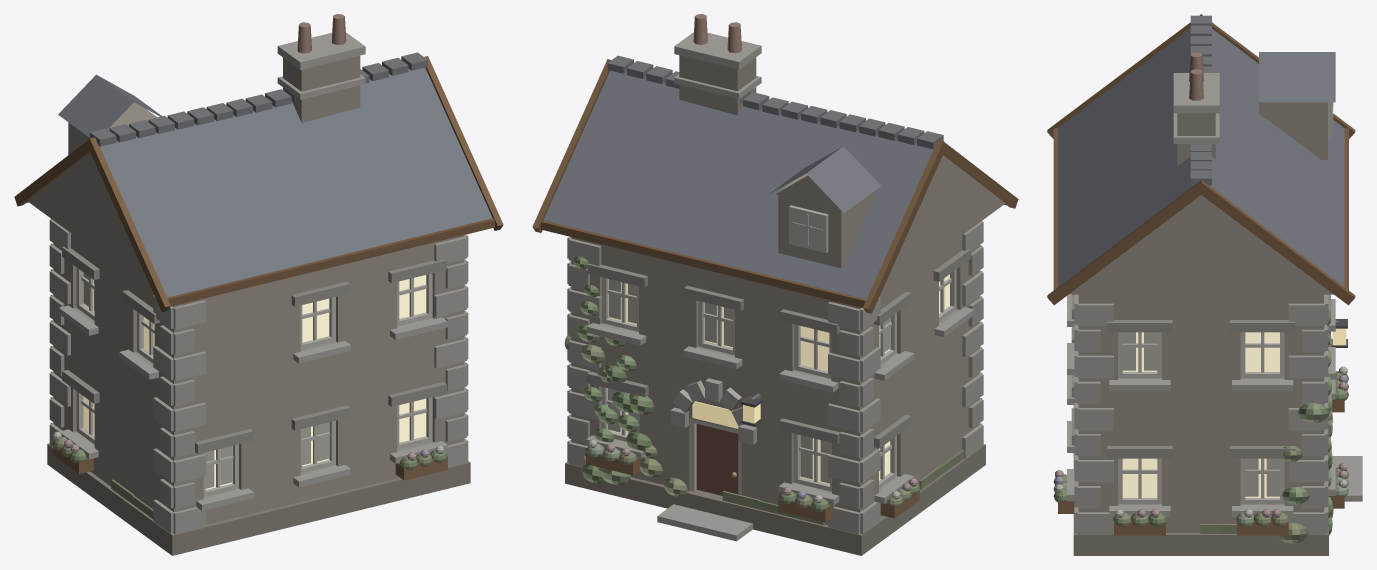
Rendered from cottage-2s.glb.
3 views of the same model, side by side, from view 1: azimuth 30°, elevation 25°; view 2: azimuth 150°, elevation 25°; view 3: azimuth 270°, elevation 25° (orthographic). The views are drawn at different scales.
Visible parts, largest first — view 1: cottage-2s; view 2: cottage-2s; view 3: cottage-2s.
Boxes of the visible parts, x1=… form: cottage-2s: x1=14, y1=14, x2=503, y2=555; cottage-2s: x1=532, y1=14, x2=1018, y2=555; cottage-2s: x1=1047, y1=14, x2=1362, y2=555.
Size of the model in its own units: 4.15 by 5.16 by 3.28.
